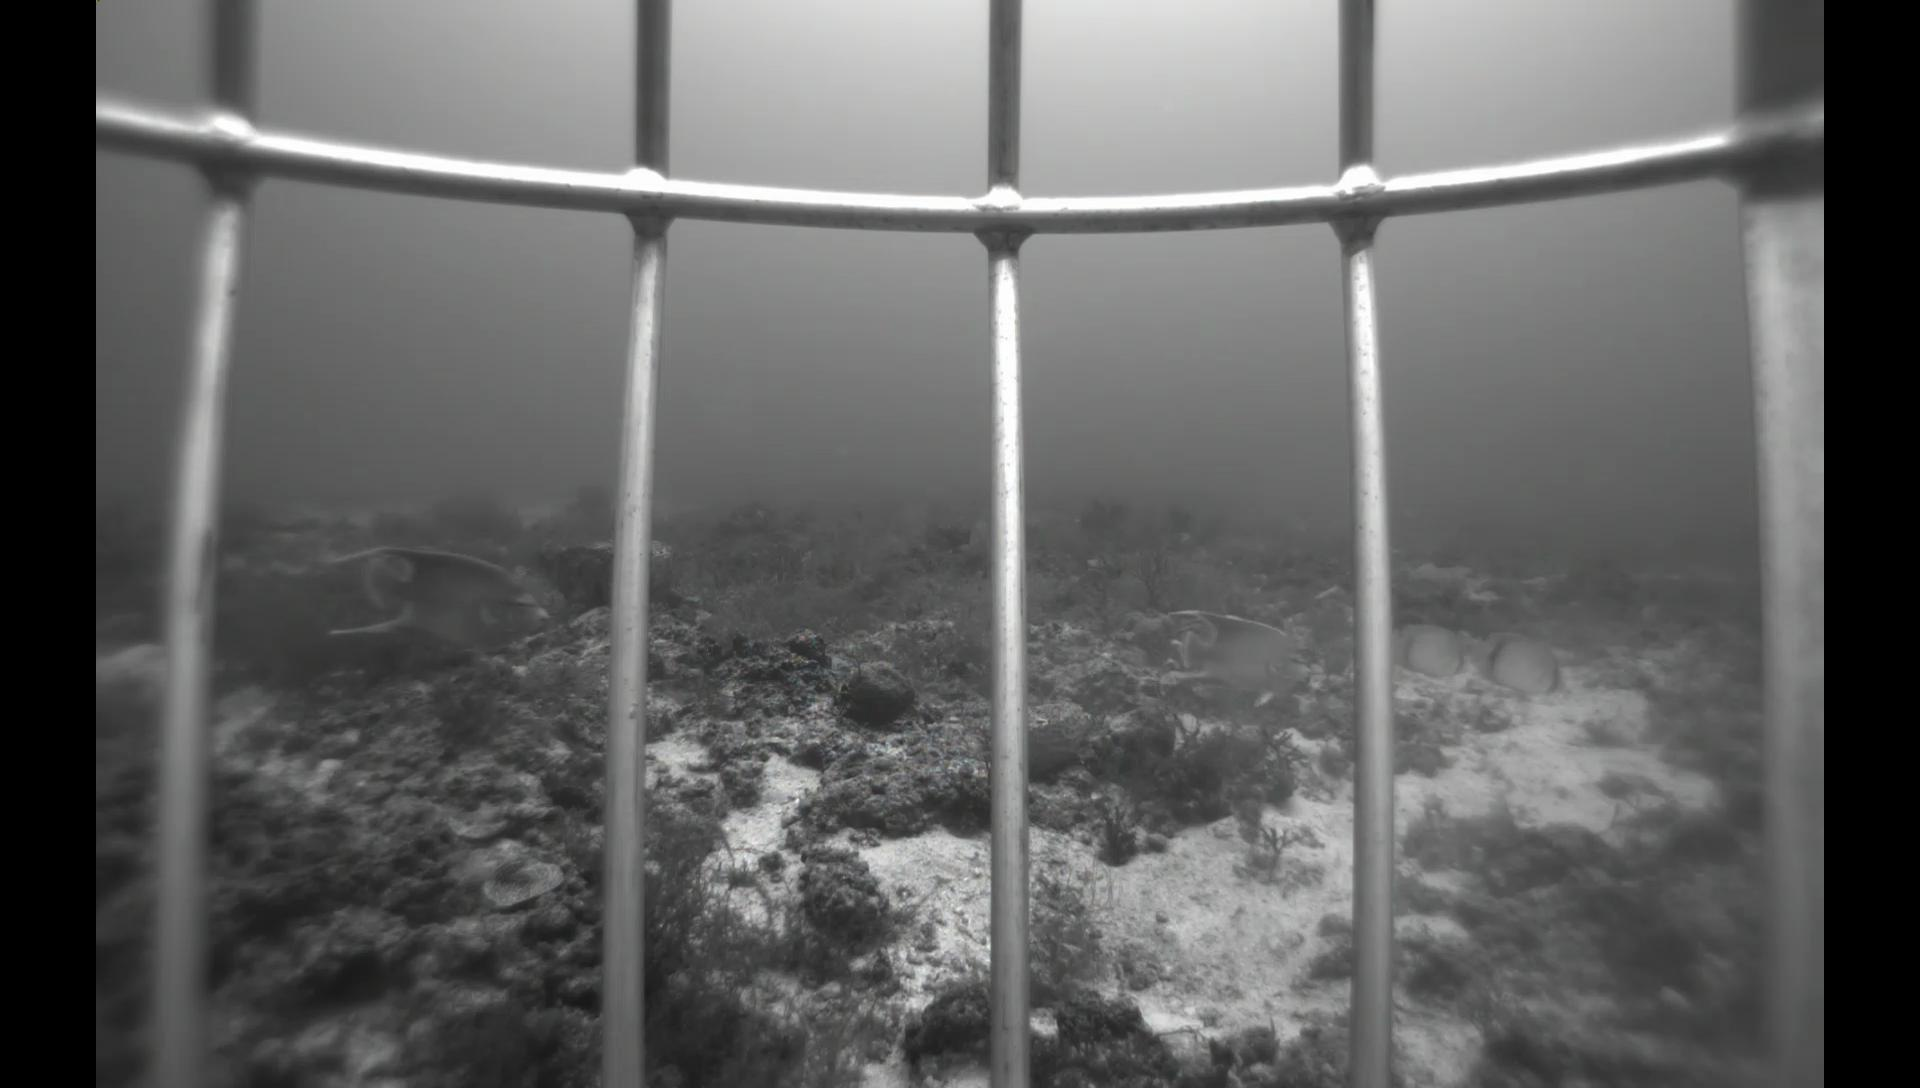CHAETODONOCELLATUS-170260307: (1470, 626, 1575, 700), (1390, 619, 1478, 679)
HOLACANTHUSBERMUDENSIS-170290102: (301, 535, 556, 658), (1151, 588, 1319, 713)
MYCTEROPERCAPHENAX-170022105: (949, 520, 989, 562)
